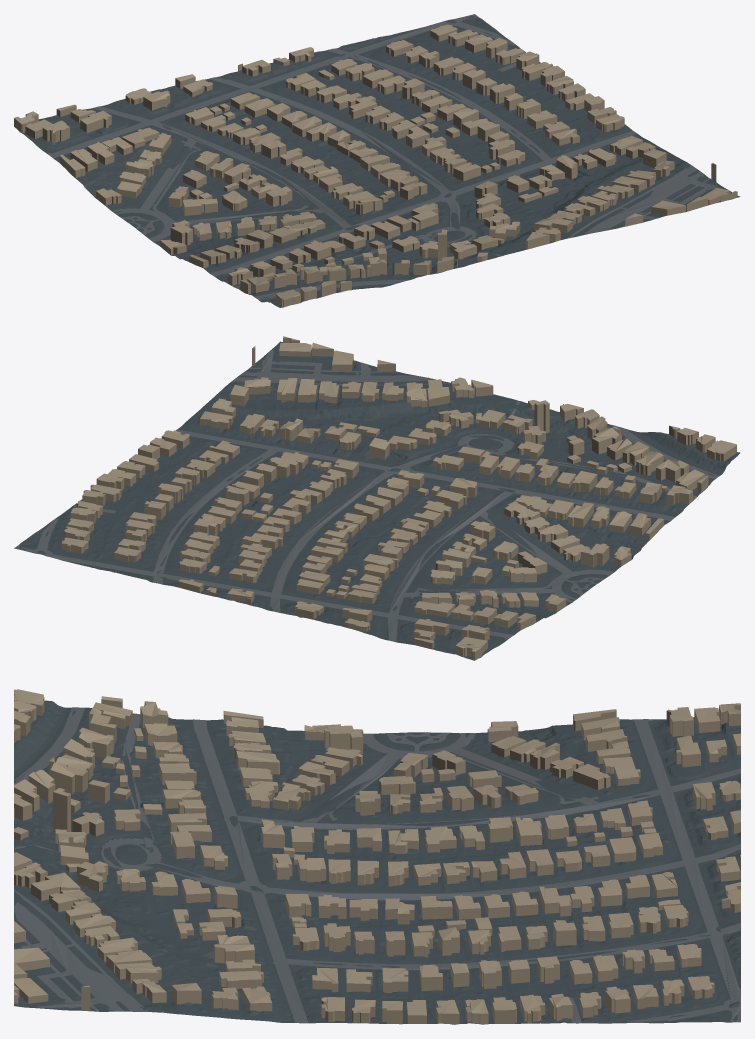
The model's file is epsg26910-1424-10873.lod0.glb.
3 renders of one model, top to bottom at view 1: azimuth 30°, elevation 25°; view 2: azimuth 150°, elevation 25°; view 3: azimuth 270°, elevation 25°, orthographic. The views are drawn at different scales.
Parts seen in each view (by area): view 1: epsg26910-1424-10873-lod0; view 2: epsg26910-1424-10873-lod0; view 3: epsg26910-1424-10873-lod0.
Boxes of the visible parts, x1=… form: epsg26910-1424-10873-lod0: x1=14, y1=14, x2=740, y2=307; epsg26910-1424-10873-lod0: x1=14, y1=336, x2=740, y2=660; epsg26910-1424-10873-lod0: x1=14, y1=689, x2=740, y2=1024.
Size of the model in its own units: 384 by 36.84 by 384.
